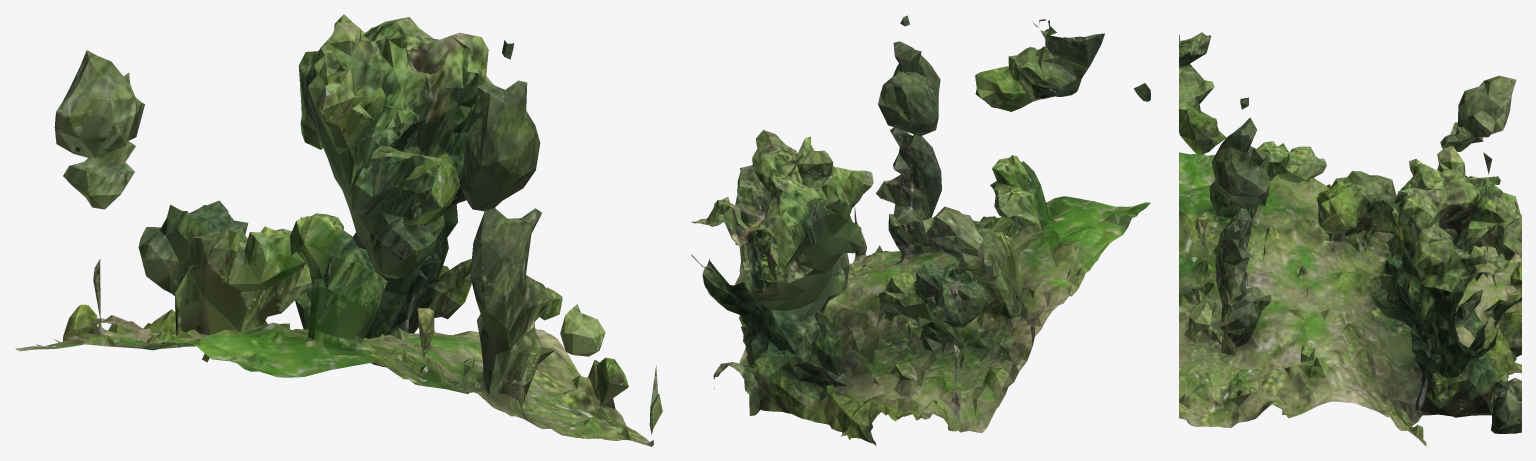
3 views of the same model, side by side, from view 1: azimuth 30°, elevation 25°; view 2: azimuth 150°, elevation 25°; view 3: azimuth 270°, elevation 25° (orthographic). The views are drawn at different scales.
Bounding box in the file's own units: 26.11 × 26.11 × 26.11.
Materials: 7 (7 with a texture image).
